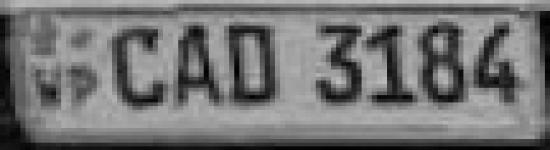1: (368, 19, 420, 109)
3: (315, 20, 365, 108)
4: (470, 18, 525, 111)
8: (418, 14, 471, 110)
A: (169, 21, 225, 113)
C: (104, 21, 168, 115)
D: (224, 21, 281, 110)
P: (67, 61, 107, 112)
W: (29, 63, 68, 112)
